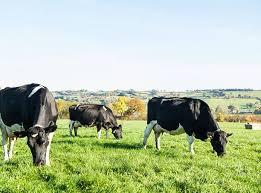cow: (143, 96, 234, 158), (1, 83, 60, 168), (69, 104, 124, 140)
